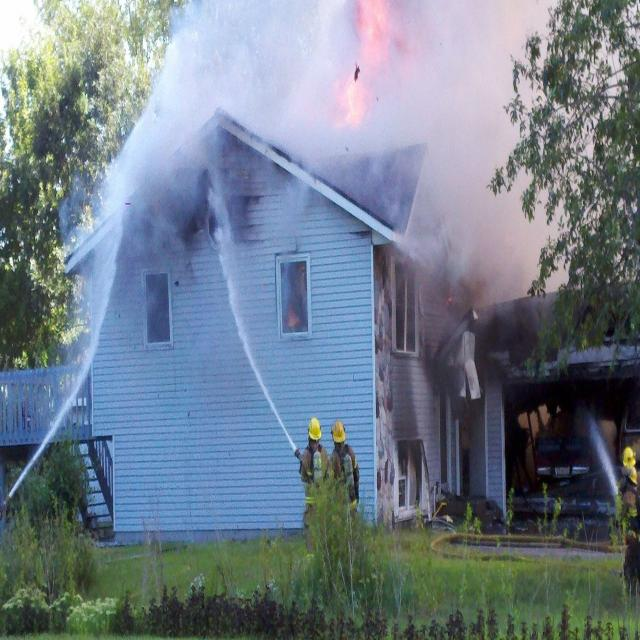smoke: (402, 78, 520, 267), (168, 8, 328, 135)
